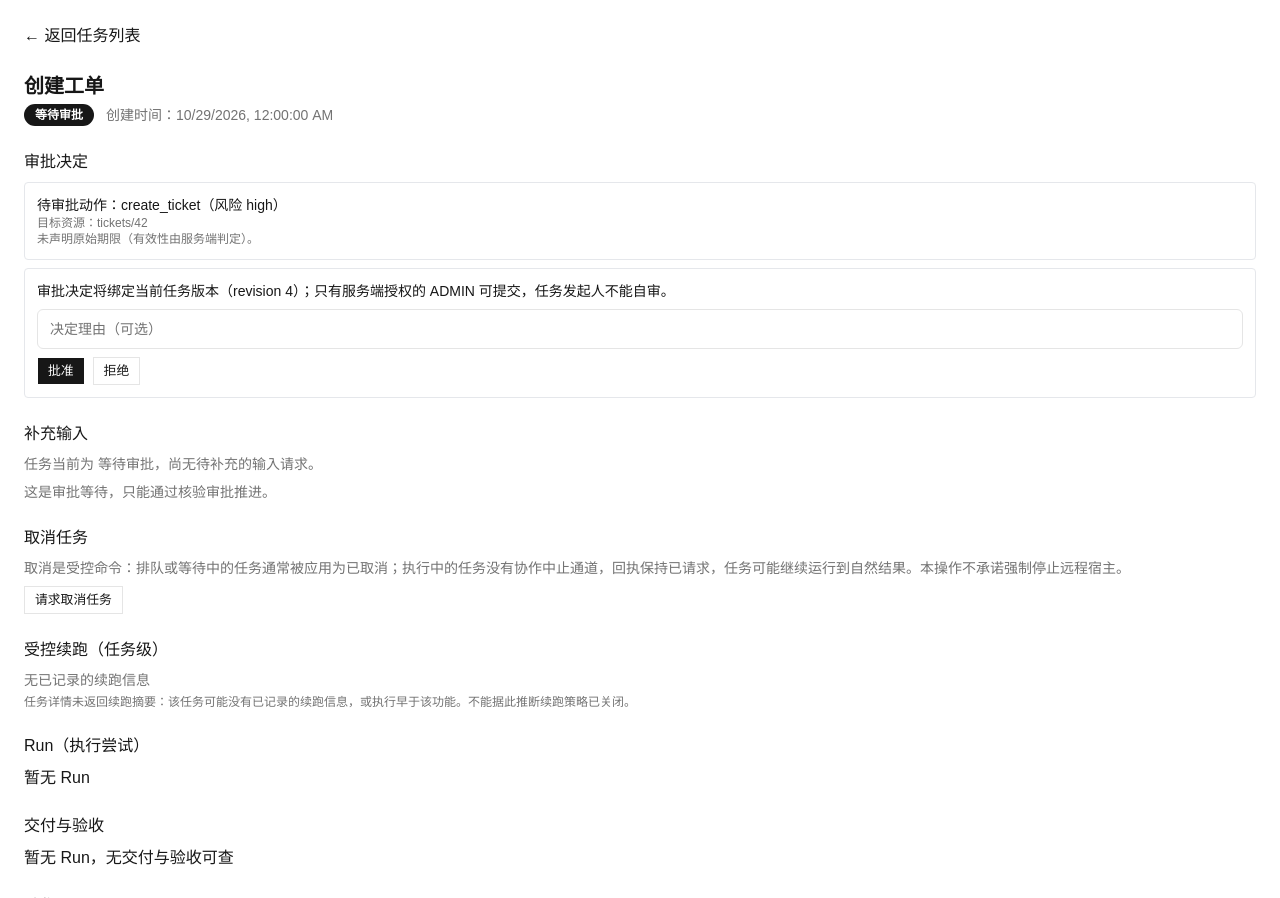
Test: TaskDetailPage approval loop › posts a frozen decision operation and renders decision and resume facts separately
Expected: the text with test id "task-approval-wait-summary" shows "create_ticket", [37, 197, 200, 213]
Expected: the text with test id "task-approval-target-resources" shows "tickets/42", [97, 216, 148, 230]
Step 1. Type "justified" into the field with test id "task-approval-reason" → x=640, y=329, box [37, 309, 1243, 349]
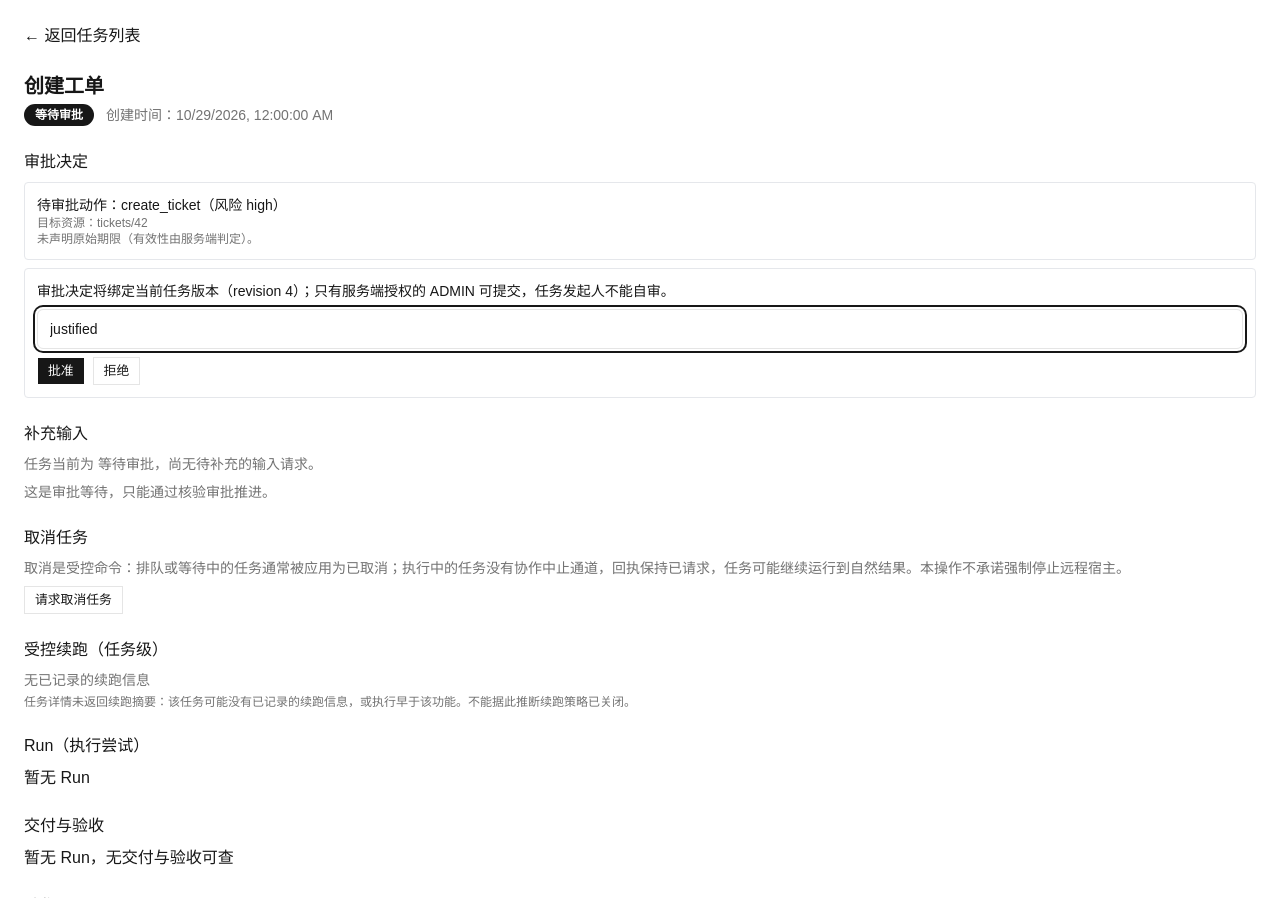
Step 2. Click the button with test id "task-approval-approve" → x=61, y=371, box [37, 357, 85, 385]
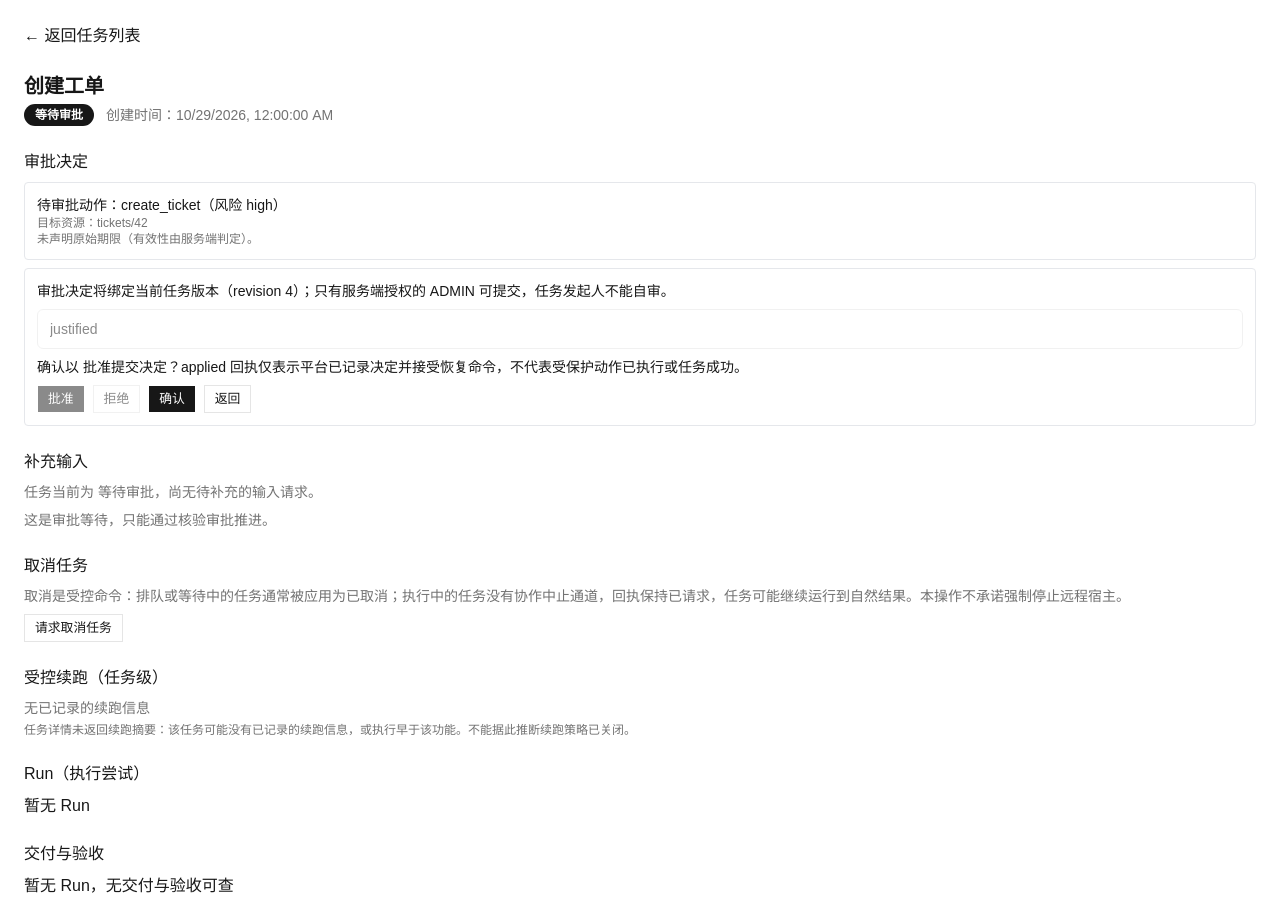
Step 3. Click the button with test id "task-approval-confirm-accept" → x=172, y=399, box [148, 385, 196, 413]
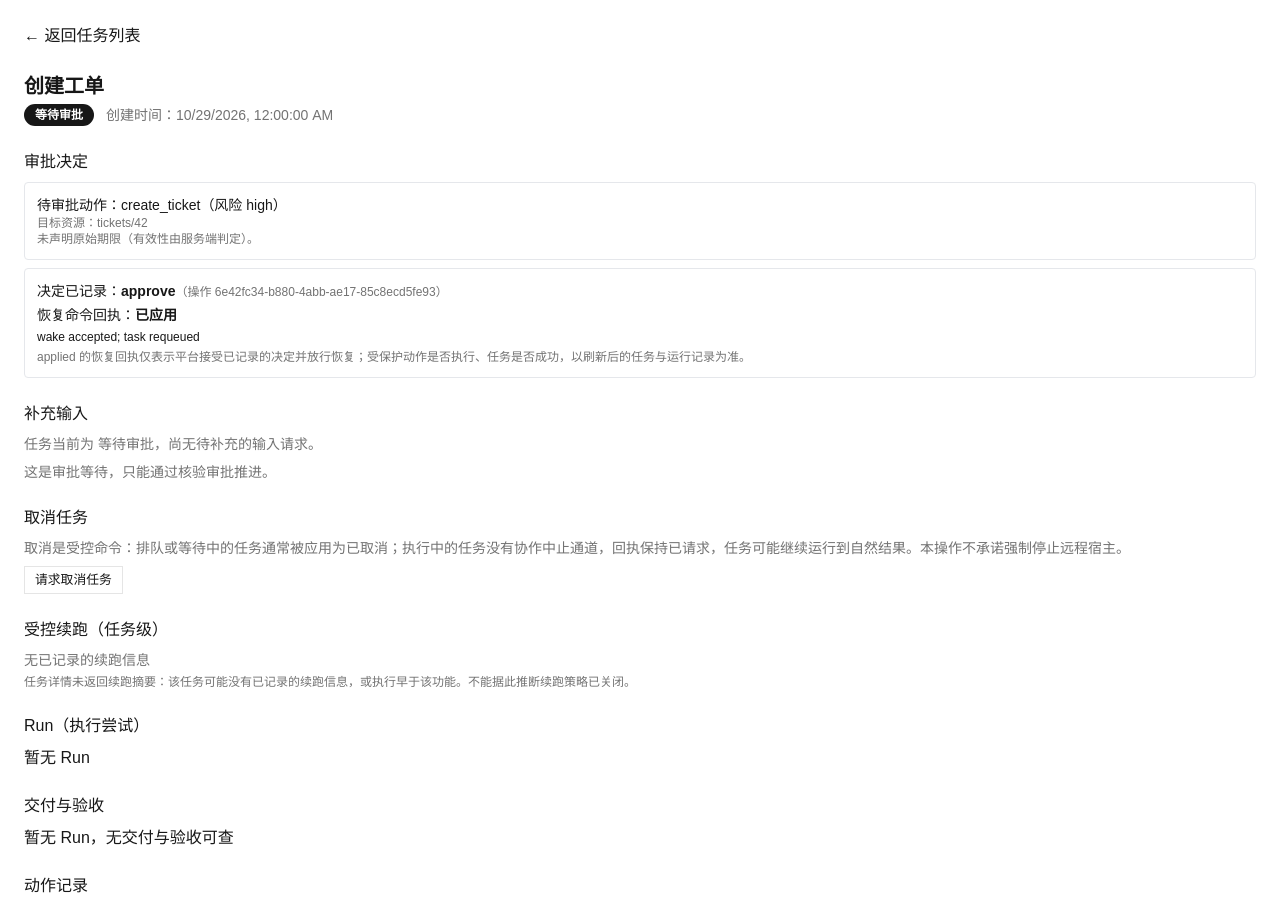
Result: the text "approve" is shown at [121, 283, 176, 299]
Result: the text with test id "task-approval-receipt-decision" reads "approve" at [121, 283, 176, 299]
Result: the text with test id "task-approval-resume-state" reads "已应用" at [135, 307, 177, 323]
